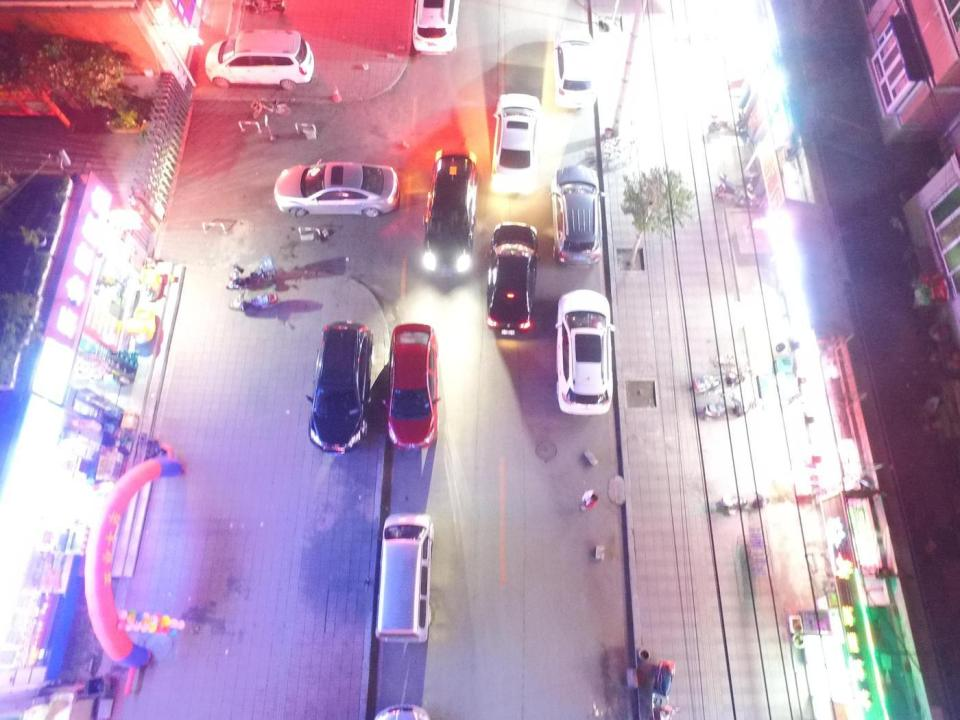car: (307, 320, 374, 452), (273, 160, 400, 220), (555, 288, 613, 416), (385, 323, 439, 453), (423, 154, 478, 276), (485, 220, 537, 337), (552, 164, 603, 267), (491, 93, 542, 196), (552, 28, 599, 109), (412, 0, 460, 55), (370, 703, 431, 720)
van: (374, 512, 434, 645), (204, 28, 315, 92)
